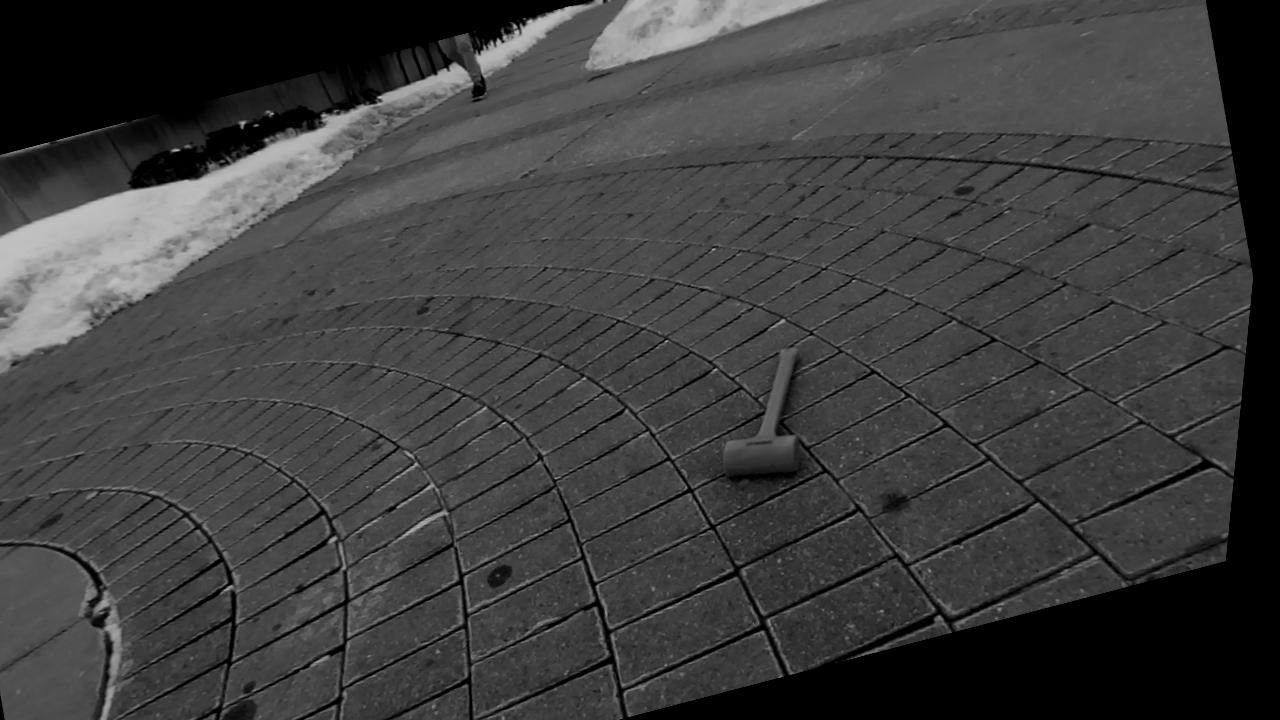mallet: (722, 347, 801, 476)
